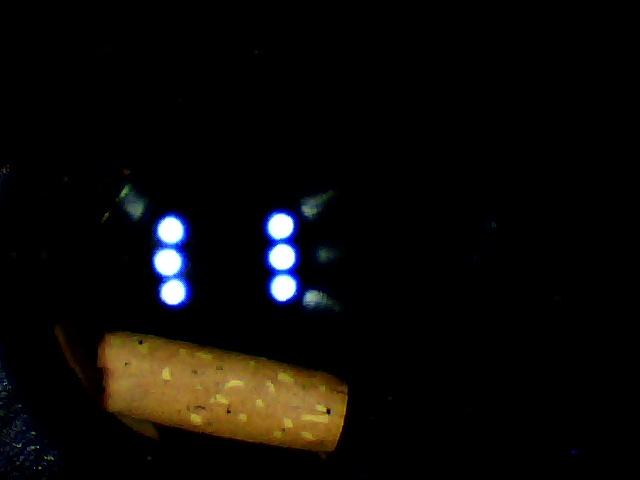megot: (77, 308, 358, 469)
